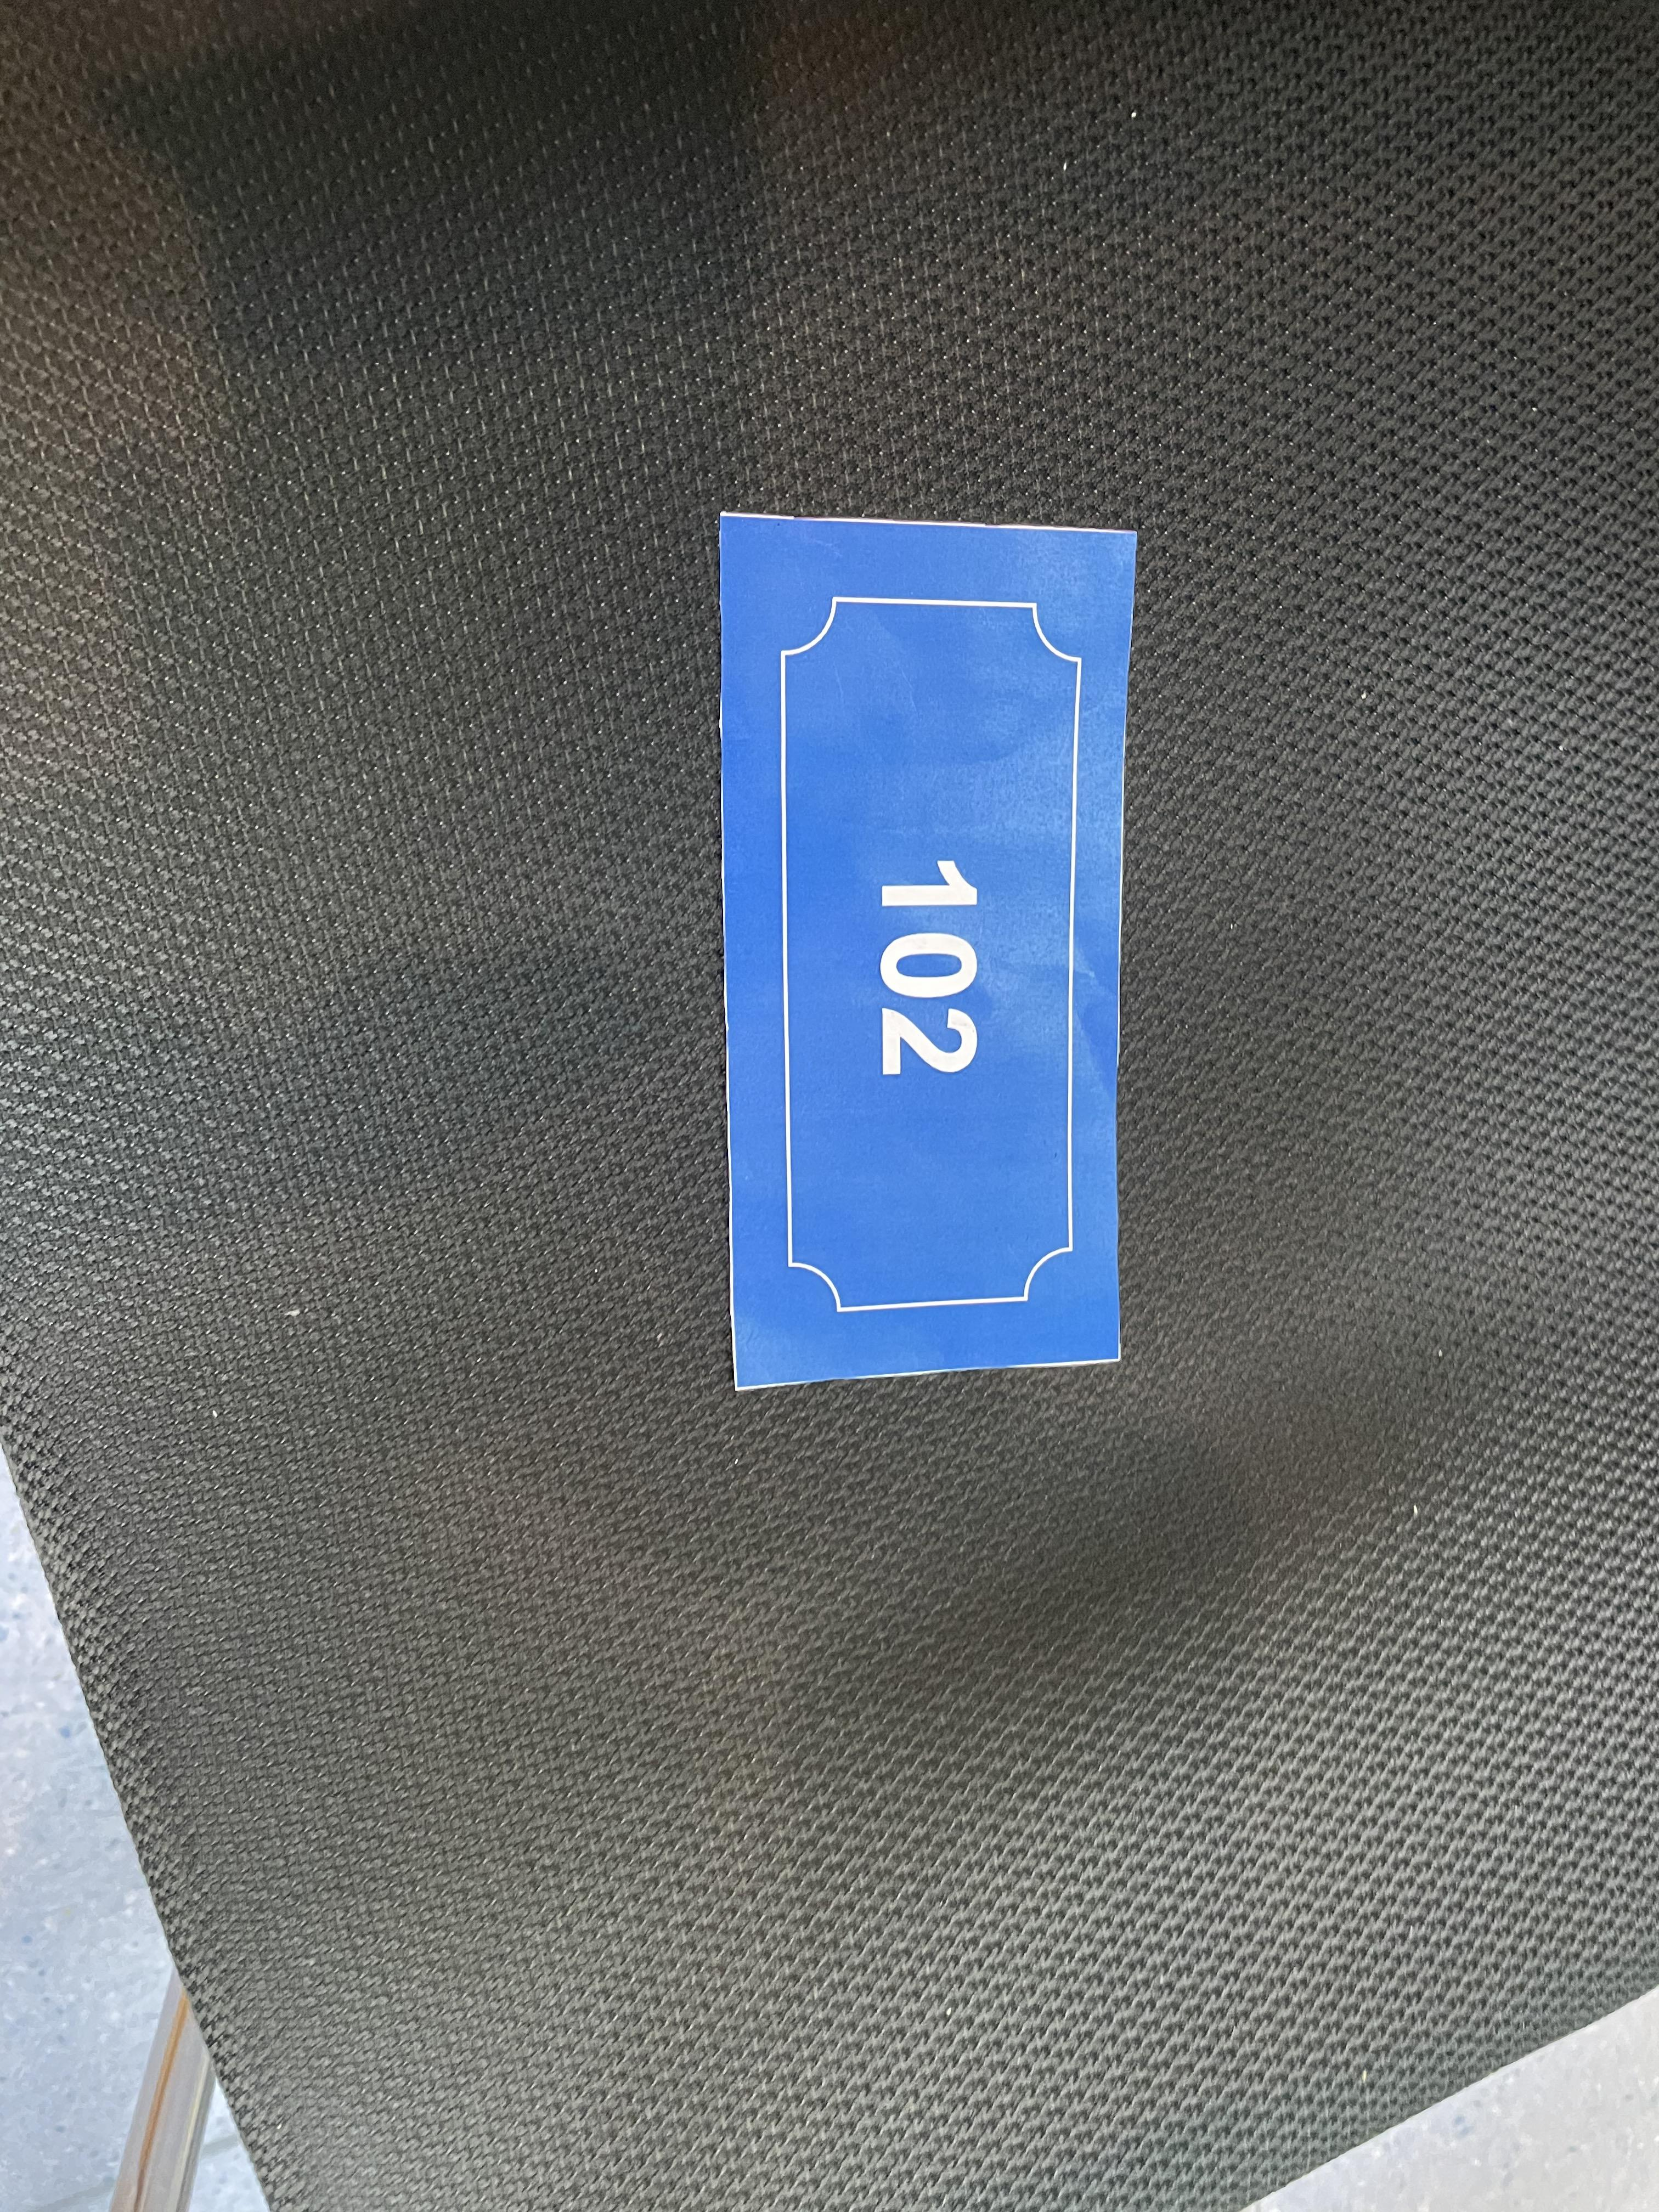Card: (588, 413, 1201, 1451)
